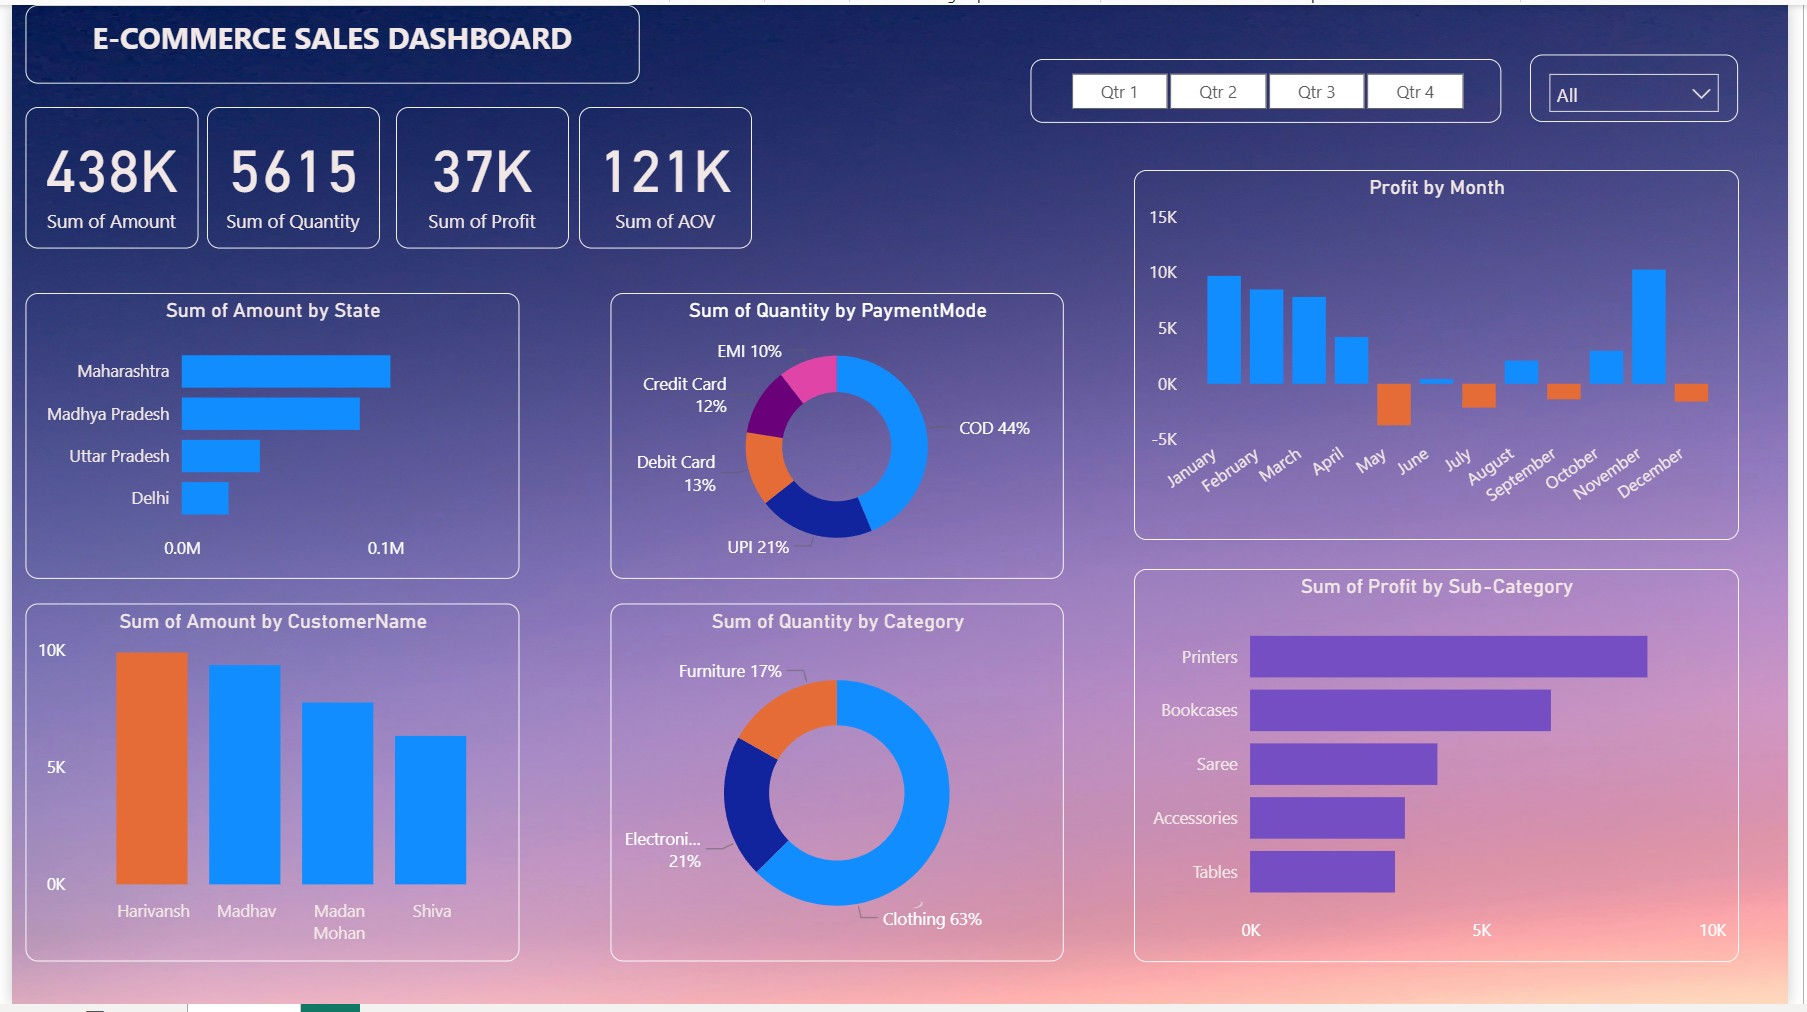

What the dashboard file says about the page in this screenshot:
{"tool":"powerbi","page":{"name":"Page 1","canvas":[1280,720],"ordinal":0},"visuals":[{"type":"textbox","box":[9.7,0,442.6,56.4],"z":0},{"type":"columnChart","title":"Profit by Month","fields":{"Category":["Orders.Order Date.Variation.Date Hierarchy.Month"],"Y":["Sum(Details.Profit)"]},"box":[808.3,118.7,435.7,266.5],"z":1000},{"type":"barChart","fields":{"Category":["Details.Sub-Category"],"Y":["Sum(Details.Profit)"]},"box":[808.3,406.6,435.7,283],"z":2000},{"type":"donutChart","fields":{"Category":["Details.Category"],"Y":["Sum(Details.Quantity)"]},"box":[430.9,431.9,326.8,257.8],"z":3000},{"type":"donutChart","fields":{"Y":["Sum(Details.Quantity)"],"Category":["Details.PaymentMode"]},"box":[430.9,207.2,326.8,206.2],"z":4000},{"type":"card","fields":{"Values":["Sum(Details.Amount)"]},"box":[9.7,73.9,124.5,102.1],"z":5000},{"type":"card","fields":{"Values":["Sum(Details.Quantity)"]},"box":[141,73.9,124.5,102.1],"z":6000},{"type":"card","fields":{"Values":["Sum(Details.Profit)"]},"box":[276.2,73.9,124.5,102.1],"z":7000},{"type":"card","fields":{"Values":["Sum(Details.AOV)"]},"box":[408.5,73.9,124.5,102.1],"z":8000},{"type":"barChart","fields":{"Category":["Orders.State"],"Y":["Sum(Details.Amount)"]},"box":[9.7,207.2,356,206.2],"z":9000},{"type":"columnChart","fields":{"Category":["Orders.CustomerName"],"Y":["Sum(Details.Amount)"]},"box":[9.7,431.9,356,257.8],"z":10000},{"type":"slicer","fields":{"Values":["Orders.Order Date.Variation.Date Hierarchy.Quarter"]},"box":[734.3,38.9,339.5,45.7],"z":11000},{"type":"slicer","fields":{"Values":["Orders.State"]},"box":[1094.2,36,149.8,48.6],"z":12000}]}

Visuals, with their boxes in screenshot pixels (x1, y1, x2, y2), scaled from the page's 1280x720 canvas onto the 1807x1012 screenshot:
textbox: (x1=14, y1=0, x2=639, y2=79)
"Profit by Month" columnChart: (x1=1141, y1=167, x2=1756, y2=541)
barChart - Details.Sub-Category x Sum(Details.Profit): (x1=1141, y1=571, x2=1756, y2=969)
donutChart - Details.Category x Sum(Details.Quantity): (x1=608, y1=607, x2=1070, y2=969)
donutChart - Sum(Details.Quantity) x Details.PaymentMode: (x1=608, y1=291, x2=1070, y2=581)
card - Sum(Details.Amount): (x1=14, y1=104, x2=189, y2=247)
card - Sum(Details.Quantity): (x1=199, y1=104, x2=375, y2=247)
card - Sum(Details.Profit): (x1=390, y1=104, x2=566, y2=247)
card - Sum(Details.AOV): (x1=577, y1=104, x2=752, y2=247)
barChart - Orders.State x Sum(Details.Amount): (x1=14, y1=291, x2=516, y2=581)
columnChart - Orders.CustomerName x Sum(Details.Amount): (x1=14, y1=607, x2=516, y2=969)
slicer - Orders.Order Date.Variation.Date Hierarchy.Quarter: (x1=1037, y1=55, x2=1516, y2=119)
slicer - Orders.State: (x1=1545, y1=51, x2=1756, y2=119)
